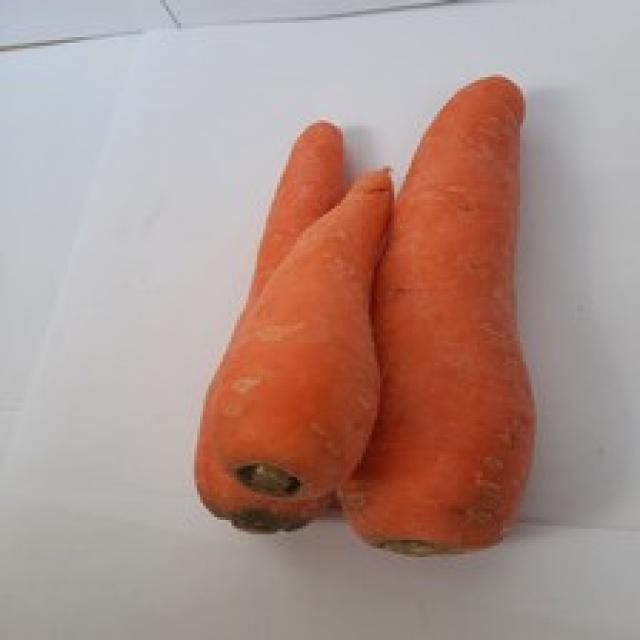Fresh_Carrot: (196, 138, 394, 529), (378, 80, 520, 539)
